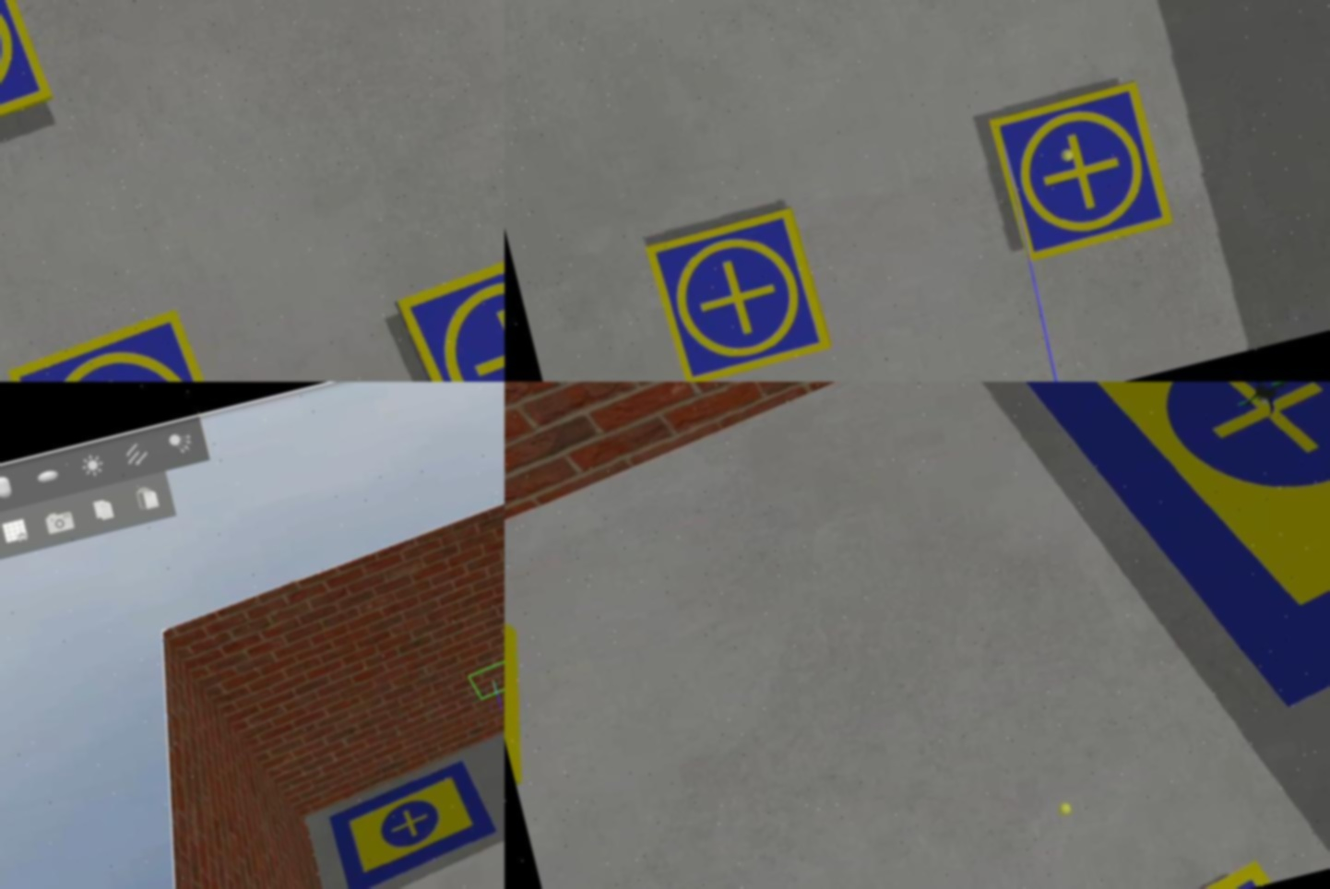large_base: (985, 382, 1330, 754), (327, 757, 505, 889)
small_base: (988, 78, 1179, 266), (645, 204, 837, 382), (1, 302, 250, 382), (390, 227, 505, 382)
